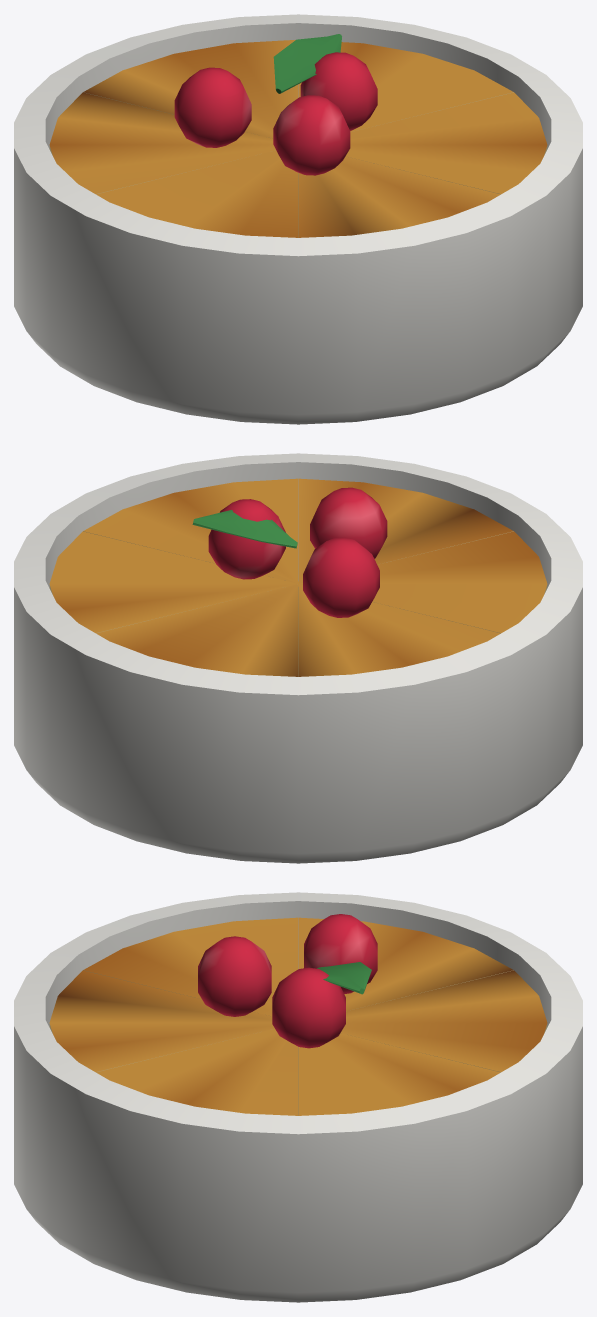
Rendered from dish-creme-brulee-lod1.glb.
The picture shows the model from 3 angles, top to bottom: view 1: azimuth 30°, elevation 25°; view 2: azimuth 150°, elevation 25°; view 3: azimuth 270°, elevation 25°; orthographic projection.
Visible parts, largest first — view 1: creme-brulee.lod1__table porcelain, creme-brulee.lod1__food glaze, creme-brulee.lod1__food; view 2: creme-brulee.lod1__table porcelain, creme-brulee.lod1__food glaze, creme-brulee.lod1__food; view 3: creme-brulee.lod1__table porcelain, creme-brulee.lod1__food glaze, creme-brulee.lod1__food.
Part boxes in pixels (<box>): creme-brulee.lod1__table porcelain: <box>14,14,582,424</box>; creme-brulee.lod1__food glaze: <box>49,40,547,237</box>; creme-brulee.lod1__food: <box>273,34,341,93</box>; creme-brulee.lod1__table porcelain: <box>14,453,582,863</box>; creme-brulee.lod1__food glaze: <box>49,478,547,676</box>; creme-brulee.lod1__food: <box>192,510,297,548</box>; creme-brulee.lod1__table porcelain: <box>14,892,582,1302</box>; creme-brulee.lod1__food glaze: <box>49,914,547,1115</box>; creme-brulee.lod1__food: <box>317,962,371,994</box>.
Size of the model in its own units: 0.108 by 0.0495 by 0.1074.
